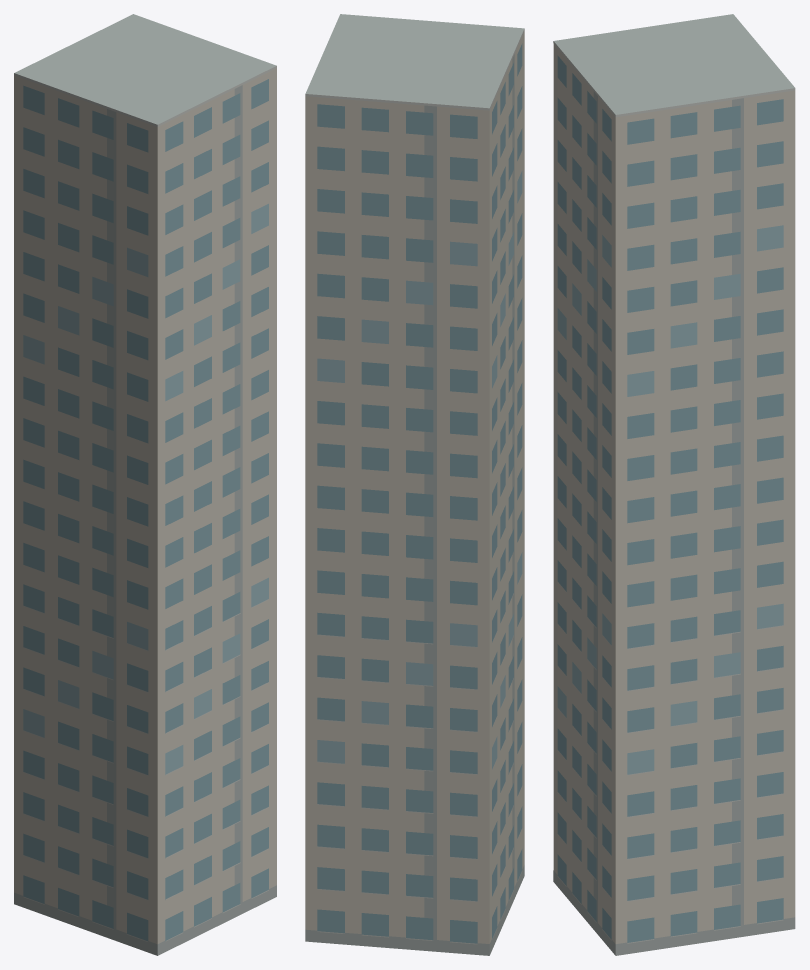
File: residential-544cbd35-7b97-40f4-acca-d1e4a750ca78.glb
3 views of the same model, side by side, from view 1: azimuth 30°, elevation 25°; view 2: azimuth 150°, elevation 25°; view 3: azimuth 270°, elevation 25° (orthographic).
Parts seen in each view (by area): view 1: residential-544cbd35-7b97-40f4-acca-d1e4a750ca78.tmp; view 2: residential-544cbd35-7b97-40f4-acca-d1e4a750ca78.tmp; view 3: residential-544cbd35-7b97-40f4-acca-d1e4a750ca78.tmp.
Part boxes in pixels (<box>): residential-544cbd35-7b97-40f4-acca-d1e4a750ca78.tmp: <box>14,14,276,955</box>; residential-544cbd35-7b97-40f4-acca-d1e4a750ca78.tmp: <box>305,14,524,955</box>; residential-544cbd35-7b97-40f4-acca-d1e4a750ca78.tmp: <box>553,14,795,955</box>.
Size of the model in its own units: 22.68 by 88 by 22.95.
